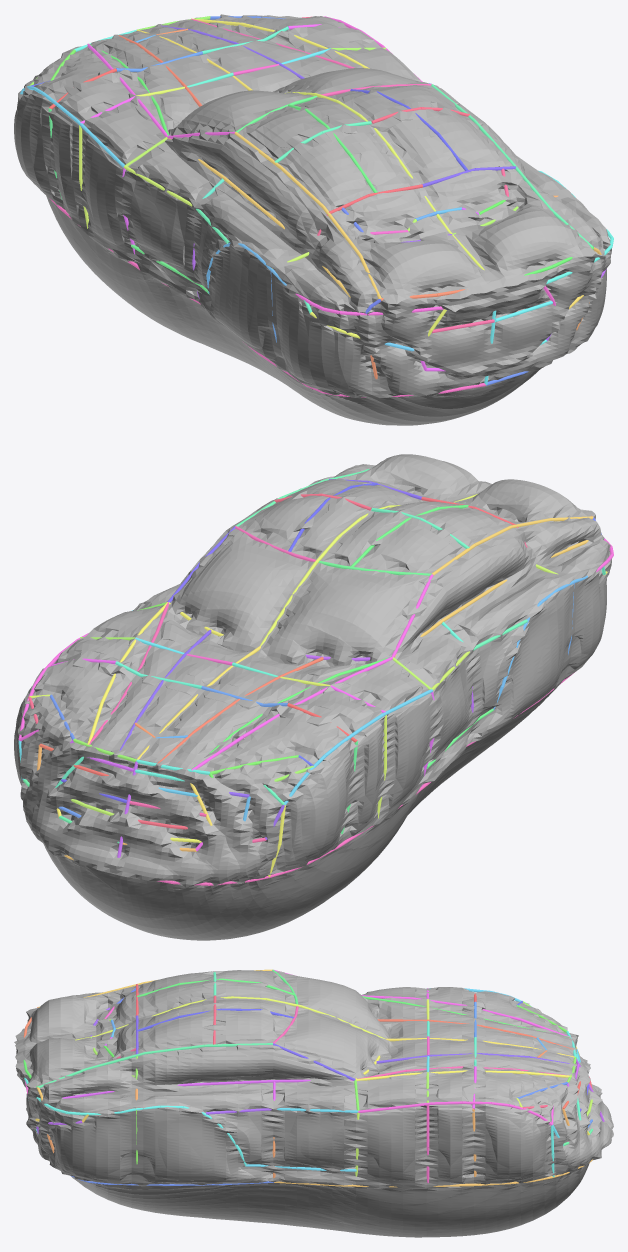
Rendered from ils_car5.gltf.
3 renders of one model, top to bottom at view 1: azimuth 30°, elevation 25°; view 2: azimuth 150°, elevation 25°; view 3: azimuth 270°, elevation 25°, orthographic. The views are drawn at different scales.
Size of the model in its own units: 0.4286 by 0.3507 by 0.9029.
